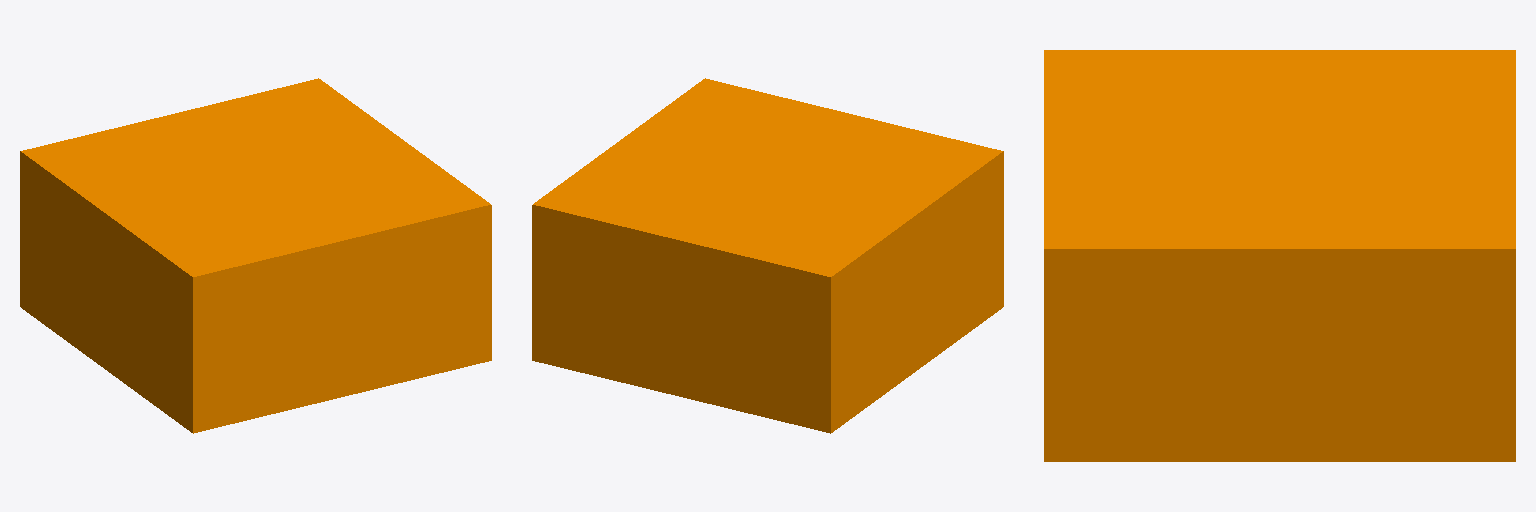
The robot description file, URDF, robot "rectangular_block":
<?xml version="1.0"?>
<robot name="rectangular_block">
    <link name="base_link">
        <visual>
            <geometry>
                <box size="1 1 0.5"/>  <!-- Length, Width, Height -->
            </geometry>
            <material name="gray">
                <color rgba="1 0.6 0.0 0.8"/>
            </material>
        </visual>
        
        <collision>
            <geometry>
                <box size="1 1 0.5"/>
            </geometry>
        </collision>
        
        <inertial>
            <mass value="1.0"/>
            <origin xyz="0 0 0"/>
            <inertia ixx="0.01" iyy="0.01" izz="0.01" ixy="0" ixz="0" iyz="0"/>
        </inertial>
    </link>
</robot>

--- What the picture shows (computed from the rendered views, not written in the file) ---
3 views of the same robot in one strip: view 1: azimuth 30°, elevation 25°; view 2: azimuth 150°, elevation 25°; view 3: azimuth 270°, elevation 25° (orthographic).
Robot: rectangular_block — 1 links, 0 joints (none); root link base_link; default pose: all joints at 0.
Visible links, largest first — view 1: base_link; view 2: base_link; view 3: base_link.
Link boxes in pixels (x1,y1,x2,y2): base_link: [20, 78, 491, 433]; base_link: [532, 78, 1003, 433]; base_link: [1044, 50, 1515, 461].
Size in the robot's own frame: 1 by 1 by 0.5 metres.
Geometry: primitives only (box / cylinder / sphere), no mesh files.